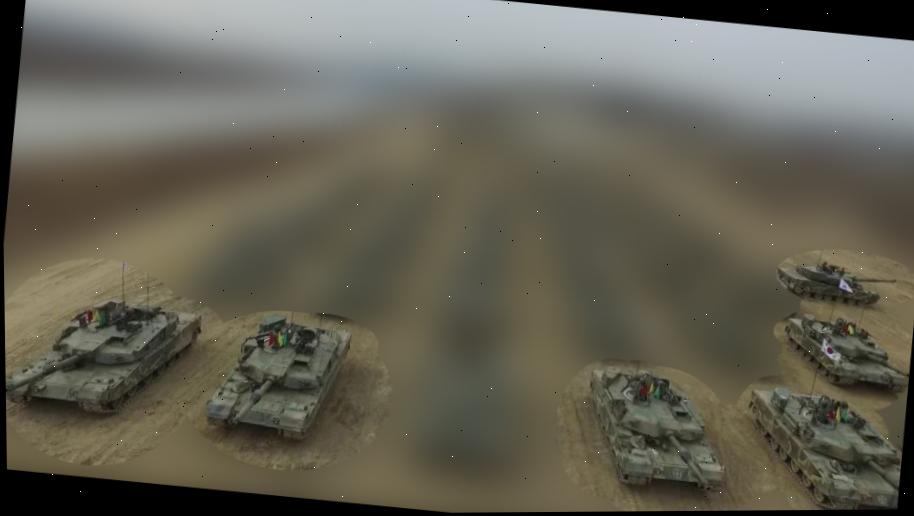tank: (4, 275, 201, 429), (195, 304, 356, 454), (570, 357, 736, 498), (742, 382, 909, 511), (777, 307, 910, 394), (763, 246, 914, 320)
